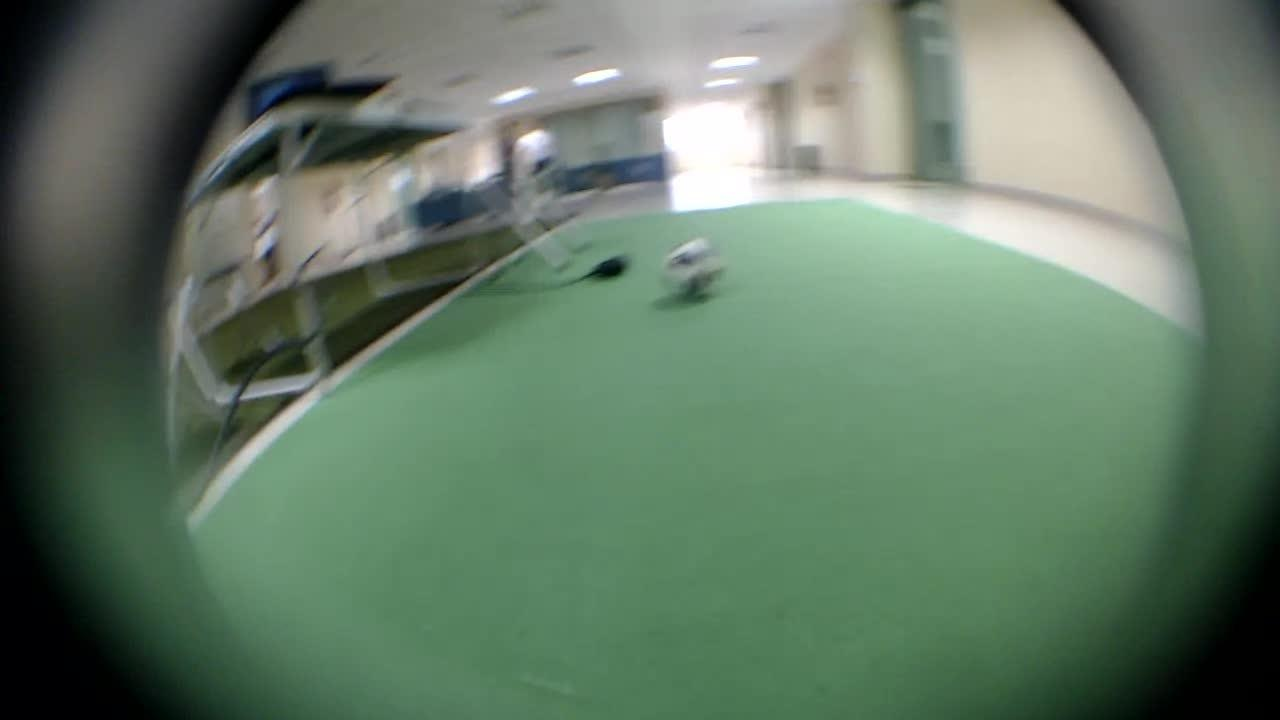ball: (652, 230, 716, 288)
